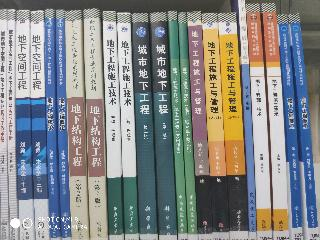book-spine: (287, 14, 320, 240), (217, 14, 248, 240), (201, 13, 229, 239), (262, 3, 288, 240), (246, 4, 272, 240), (131, 14, 157, 240), (150, 13, 176, 239), (277, 14, 303, 240), (83, 9, 108, 240), (65, 10, 89, 240), (188, 12, 212, 239), (102, 11, 123, 240), (117, 13, 138, 240), (177, 13, 198, 239), (238, 1, 256, 240), (16, 11, 34, 239), (169, 12, 187, 240), (31, 11, 48, 240), (45, 9, 60, 240), (56, 10, 70, 239), (8, 9, 17, 239), (1, 10, 8, 239)
